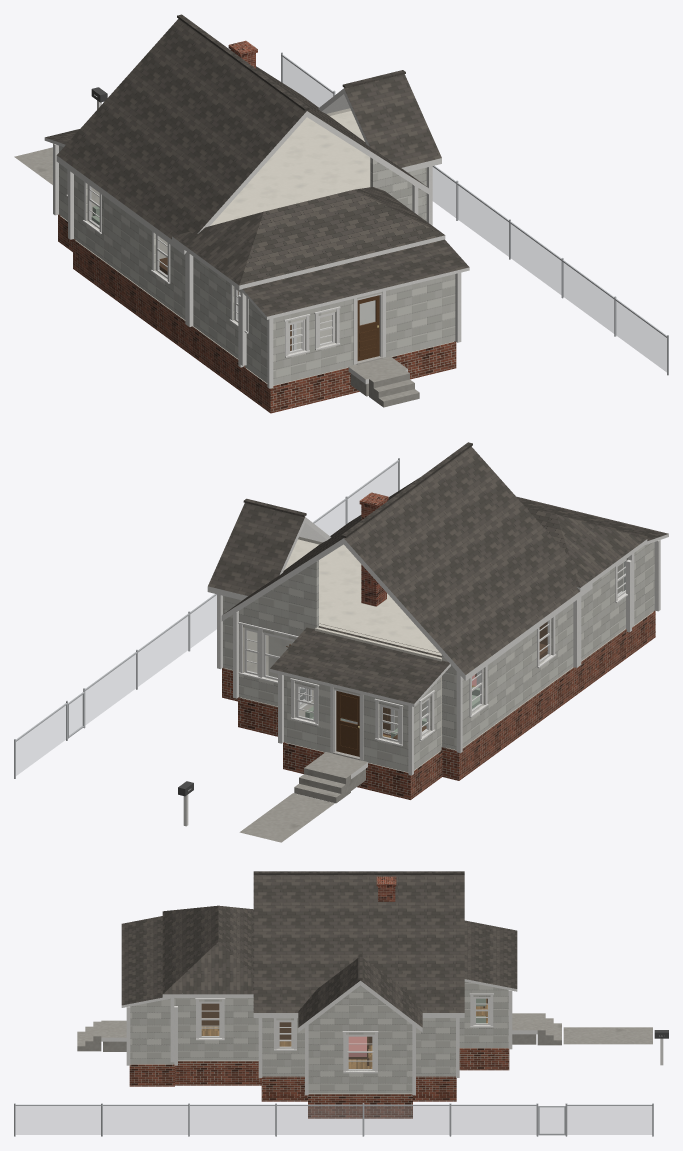
Rendered from P-HOUSE4.glb.
3 renders of one model, top to bottom at view 1: azimuth 30°, elevation 25°; view 2: azimuth 150°, elevation 25°; view 3: azimuth 270°, elevation 25°, orthographic. The views are drawn at different scales.
Parts seen in each view (by area): view 1: shell-col, roof_main-col, roof_wing-col, chainlink_mesh, floors-col, roof_rporch-col, roof_bay-col, windows, porch_1-col, chainlink-col, door_back__p, partitions-col (+3 smaller); view 2: shell-col, roof_main-col, roof_fporch-col, chainlink_mesh, floors-col, roof_bay-col, windows, roof_wing-col, porch_0-col, glass, walk-col, partitions-col (+6 smaller); view 3: shell-col, roof_main-col, chainlink_mesh, roof_wing-col, roof_bay-col, roof_rporch-col, roof_fporch-col, windows, chainlink-col, walk-col, glass, porch_0-col (+6 smaller).
Part boxes in pixels (x1=…): shell-col: x1=53, y1=108, x2=461, y2=413; roof_main-col: x1=56, y1=14, x2=429, y2=254; roof_wing-col: x1=172, y1=187, x2=445, y2=289; chainlink_mesh: x1=282, y1=57, x2=666, y2=371; floors-col: x1=60, y1=111, x2=453, y2=385; roof_rporch-col: x1=240, y1=226, x2=469, y2=319; roof_bay-col: x1=318, y1=70, x2=441, y2=172; windows: x1=66, y1=169, x2=340, y2=357; porch_1-col: x1=348, y1=356, x2=419, y2=407; chainlink-col: x1=281, y1=52, x2=668, y2=375; door_back__p: x1=357, y1=295, x2=379, y2=360; partitions-col: x1=93, y1=118, x2=375, y2=349; shell-col: x1=217, y1=536, x2=660, y2=799; roof_main-col: x1=221, y1=442, x2=592, y2=680; roof_fporch-col: x1=269, y1=623, x2=450, y2=706; chainlink_mesh: x1=16, y1=463, x2=397, y2=775; floors-col: x1=224, y1=539, x2=653, y2=772; roof_bay-col: x1=207, y1=498, x2=330, y2=600; windows: x1=238, y1=559, x2=627, y2=746; roof_wing-col: x1=526, y1=507, x2=647, y2=591; porch_0-col: x1=294, y1=752, x2=368, y2=803; glass: x1=247, y1=561, x2=625, y2=739; walk-col: x1=239, y1=793, x2=334, y2=842; partitions-col: x1=268, y1=547, x2=623, y2=745; shell-col: x1=126, y1=981, x2=512, y2=1118; roof_main-col: x1=253, y1=871, x2=464, y2=1017; chainlink_mesh: x1=16, y1=1106, x2=651, y2=1134; roof_wing-col: x1=162, y1=905, x2=253, y2=997; roof_bay-col: x1=298, y1=954, x2=422, y2=1032; roof_rporch-col: x1=121, y1=916, x2=182, y2=1007; roof_fporch-col: x1=464, y1=920, x2=517, y2=991; windows: x1=195, y1=993, x2=493, y2=1073; chainlink-col: x1=14, y1=1103, x2=653, y2=1136; walk-col: x1=563, y1=1027, x2=652, y2=1044; glass: x1=202, y1=999, x2=487, y2=1068; porch_0-col: x1=512, y1=1013, x2=561, y2=1045.
Bounding box in the file's own units: 11.25 × 7.05 × 22.69.
Materials: 24 (12 with a texture image).
